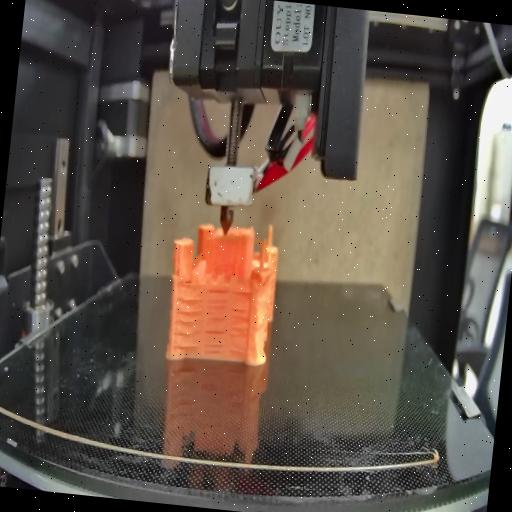cracks: (173, 296, 205, 349), (227, 310, 252, 354), (202, 323, 228, 357), (205, 286, 229, 322), (228, 290, 252, 298), (180, 278, 198, 288)
